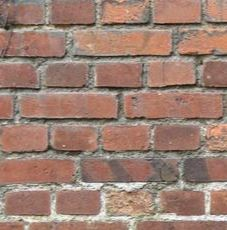brick: (122, 92, 224, 120), (80, 157, 180, 185), (18, 93, 120, 120), (70, 31, 174, 56), (1, 158, 77, 183), (1, 31, 67, 58), (1, 123, 50, 155), (147, 58, 198, 88), (94, 59, 144, 88), (101, 123, 151, 152), (55, 187, 103, 216), (51, 123, 98, 152), (5, 187, 52, 216), (99, 1, 151, 27), (153, 1, 203, 27), (153, 124, 201, 151), (44, 60, 88, 89), (48, 1, 97, 26), (159, 189, 208, 214), (184, 158, 227, 183), (1, 62, 40, 89)
